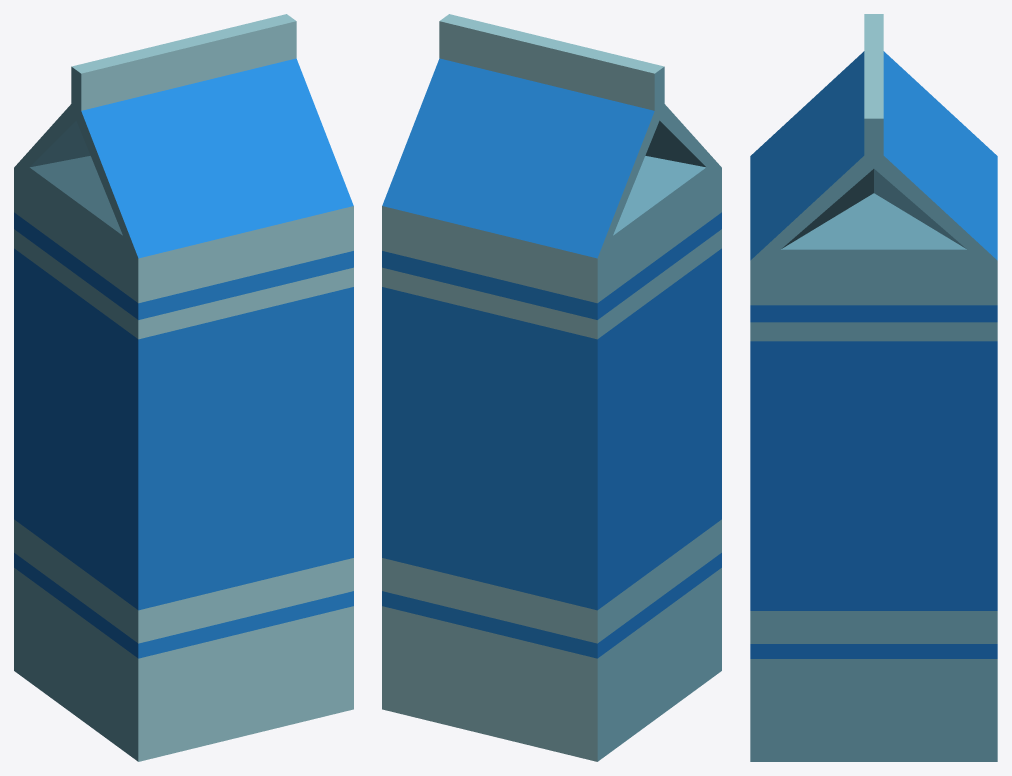
Rendered from MilkCarton_Medium.fbx.
3 renders of one model, left to right at view 1: azimuth 30°, elevation 25°; view 2: azimuth 150°, elevation 25°; view 3: azimuth 270°, elevation 25°, orthographic.
Visible parts, largest first — view 1: MilkCarton_Medium; view 2: MilkCarton_Medium; view 3: MilkCarton_Medium.
Part boxes in pixels (x1,y1,x2,y2): MilkCarton_Medium: [14, 14, 353, 761]; MilkCarton_Medium: [382, 14, 721, 761]; MilkCarton_Medium: [750, 14, 997, 761].
Bounding box in the file's own units: 38.34 × 110 × 38.34.
